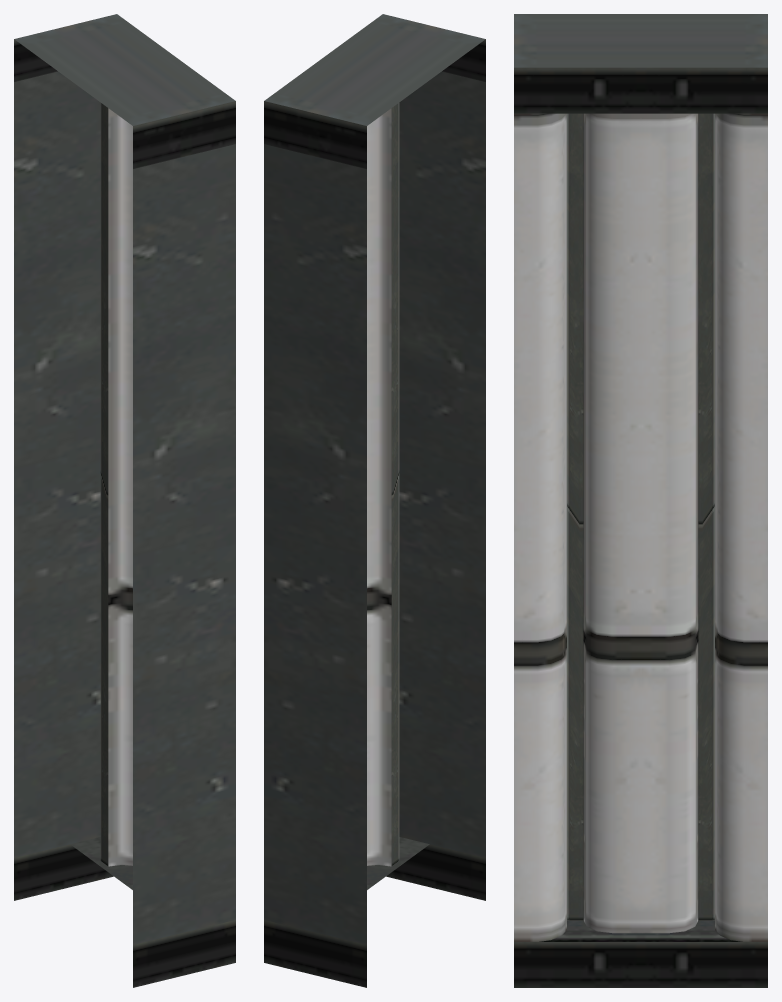
File: Neon_Wall_1x4.FBX
The picture shows the model from 3 angles, left to right: view 1: azimuth 30°, elevation 25°; view 2: azimuth 150°, elevation 25°; view 3: azimuth 270°, elevation 25°; orthographic projection. The views are drawn at different scales.
Visible parts, largest first — view 1: Neon_Wall_1x4; view 2: Neon_Wall_1x4; view 3: Neon_Wall_1x4.
Boxes of the visible parts, box(x1,y1,x2,y2) form: Neon_Wall_1x4: box(14, 14, 235, 987); Neon_Wall_1x4: box(264, 14, 485, 987); Neon_Wall_1x4: box(514, 14, 767, 987).
Size of the model in its own units: 0.5001 by 4 by 1.
